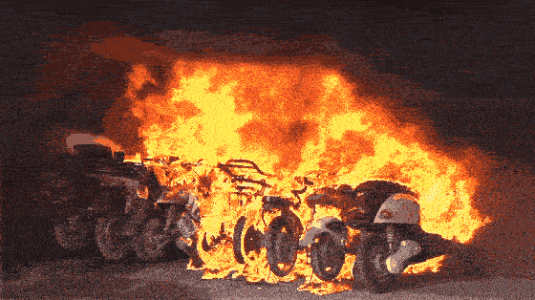fire: (112, 44, 482, 288)
